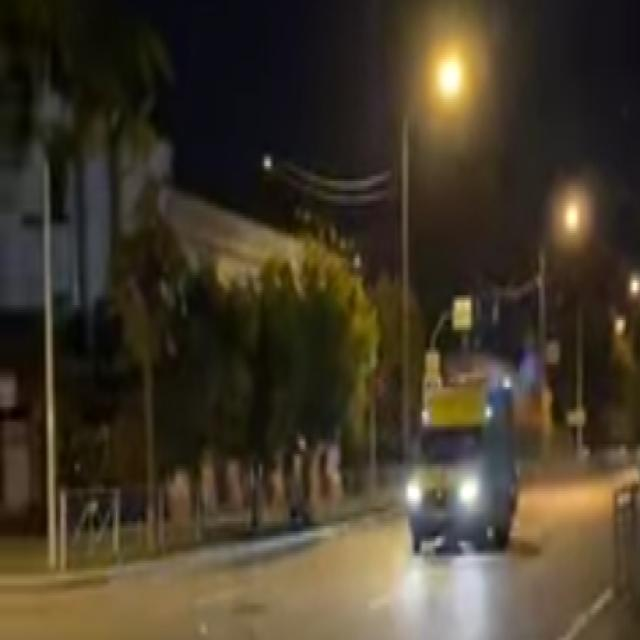intensive care unit: (408, 371, 520, 557)
